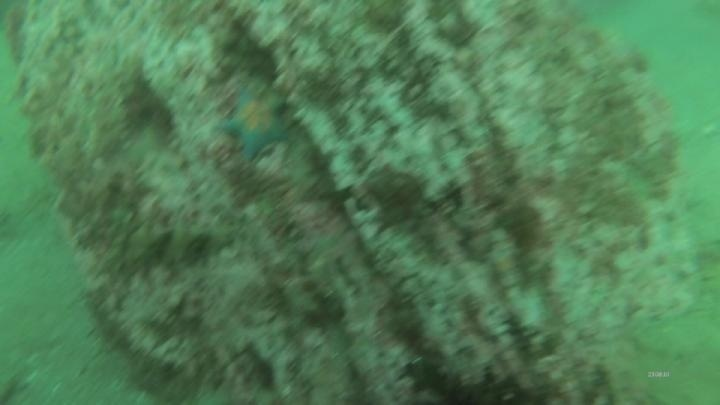holothurian: (111, 219, 238, 277)
starfish: (218, 83, 294, 164)
